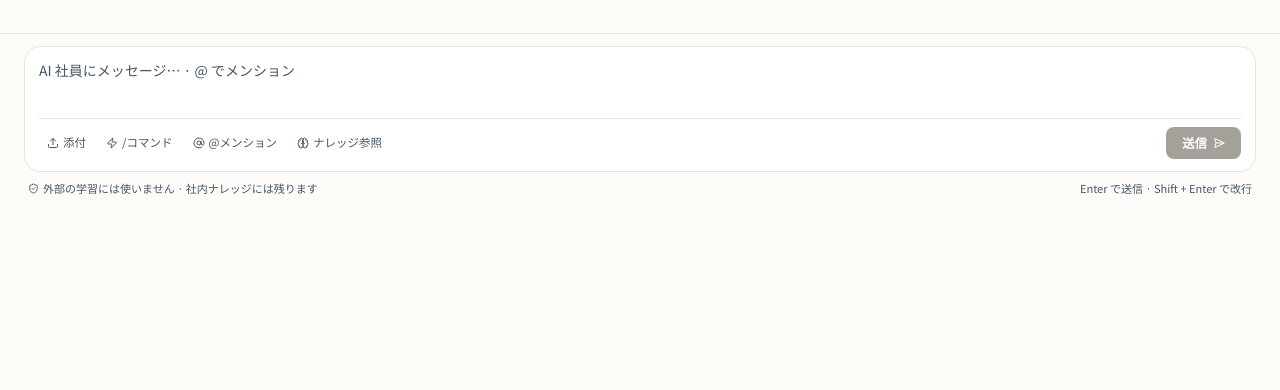
Test case: GAP-203 混雑時の順番待ち › 席が回ってきたら順番待ち表示が消えて本文が流れる
Type "こんにちは" into the text box named "メッセージを入力" at (640, 82), box [39,59,1241,104]
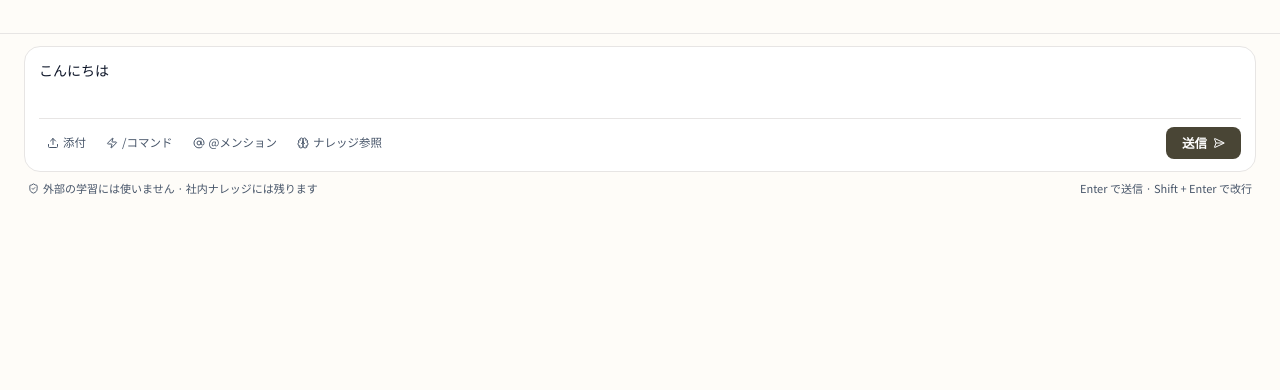
Click the button "送信" at (1204, 143), box [1166,126,1241,159]
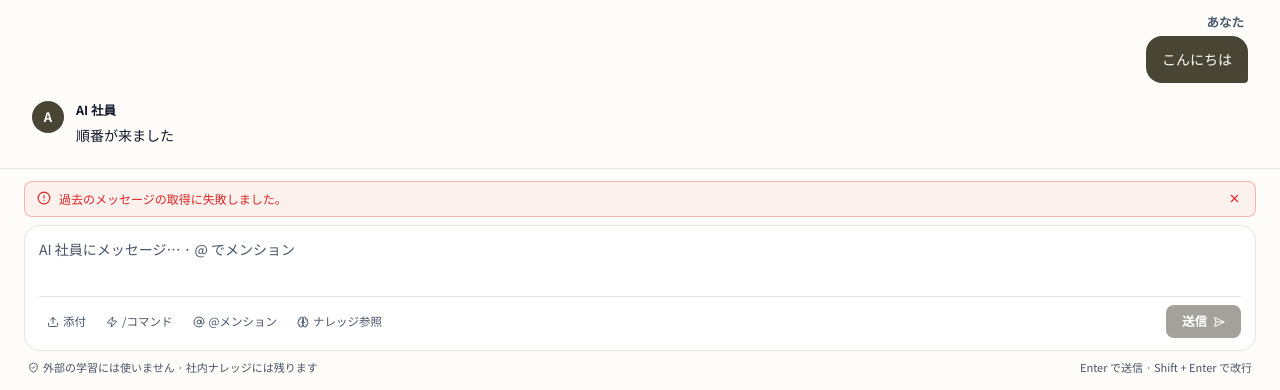
Expected: the text "順番が来ました" is shown, [76,125,174,145]
